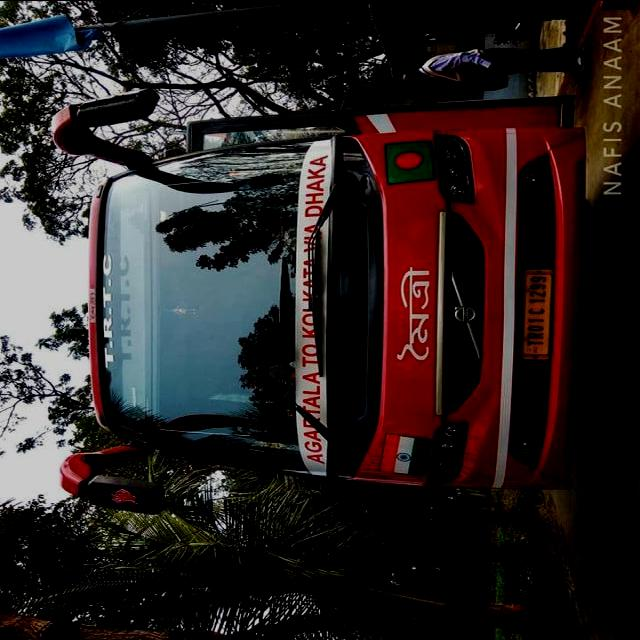bus: (50, 86, 589, 517)
